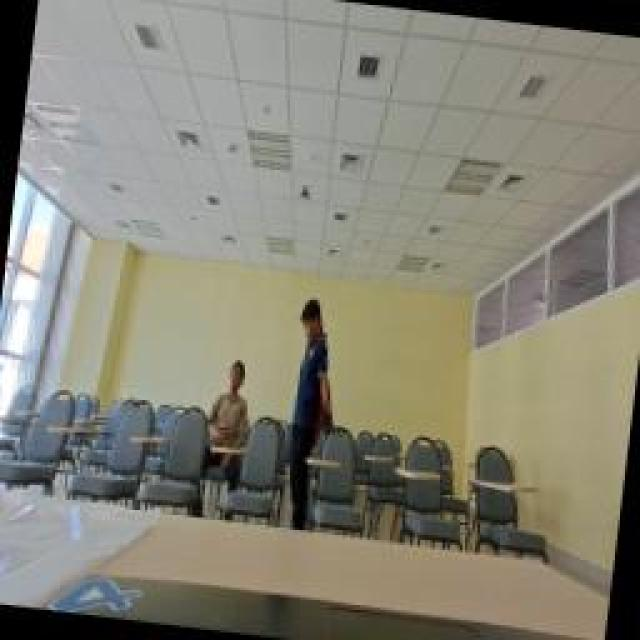study: (203, 355, 255, 450)
